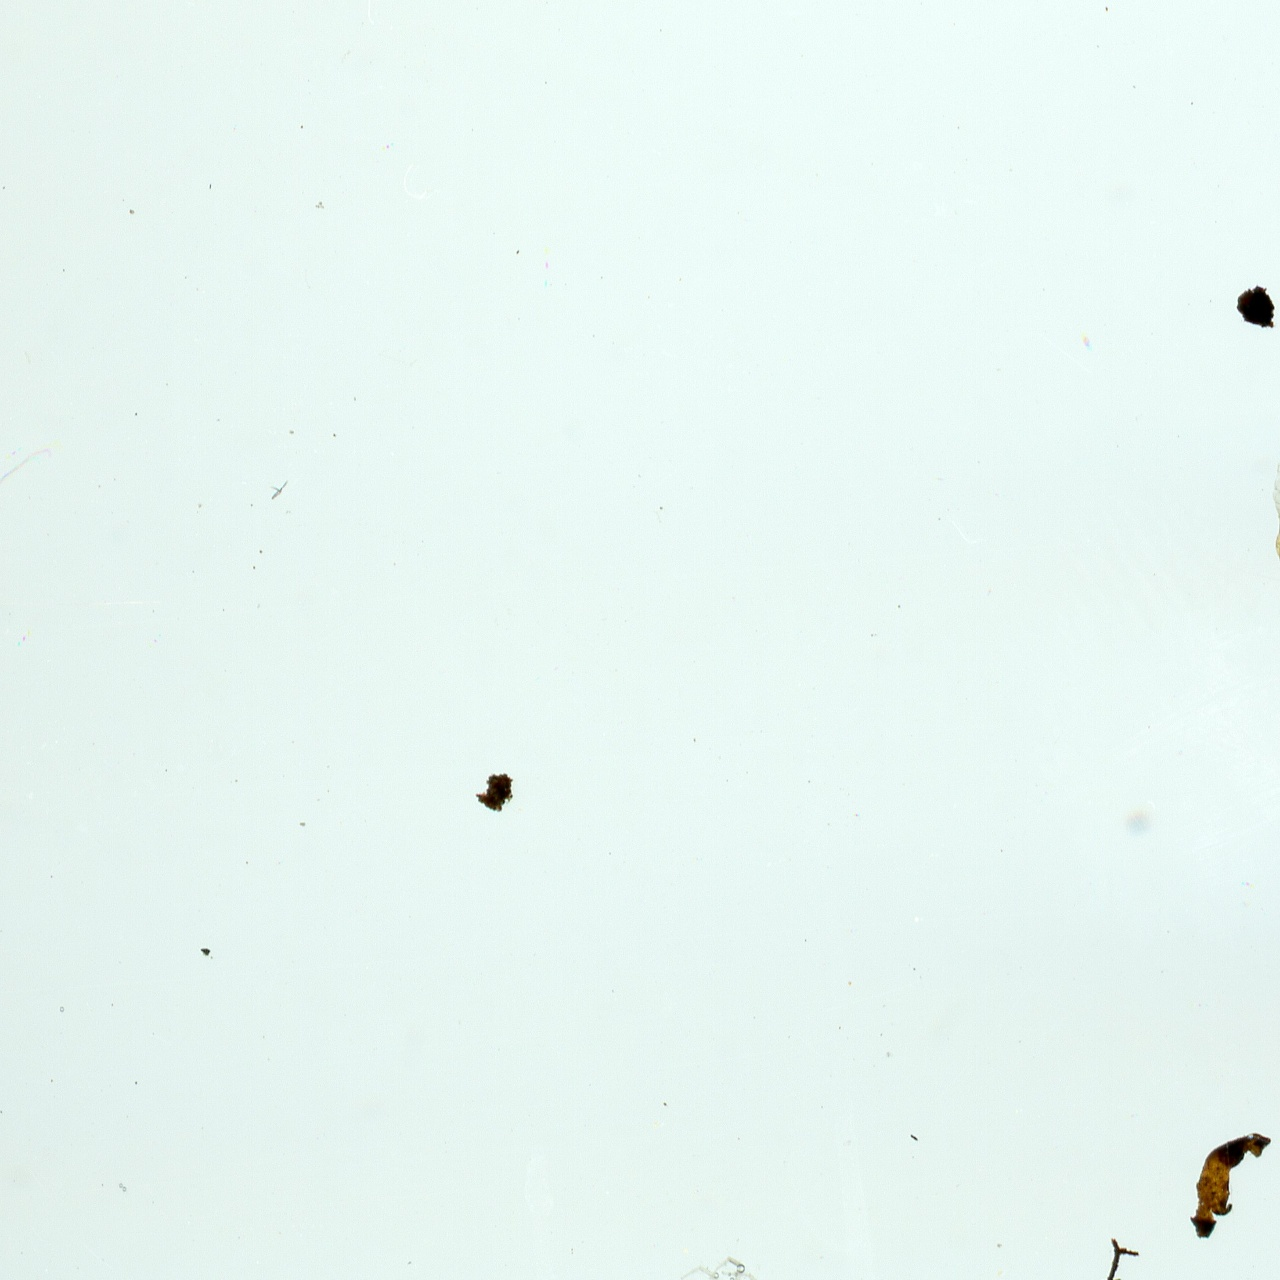arthropod: (630, 1242, 796, 1280), (1264, 426, 1280, 584)
